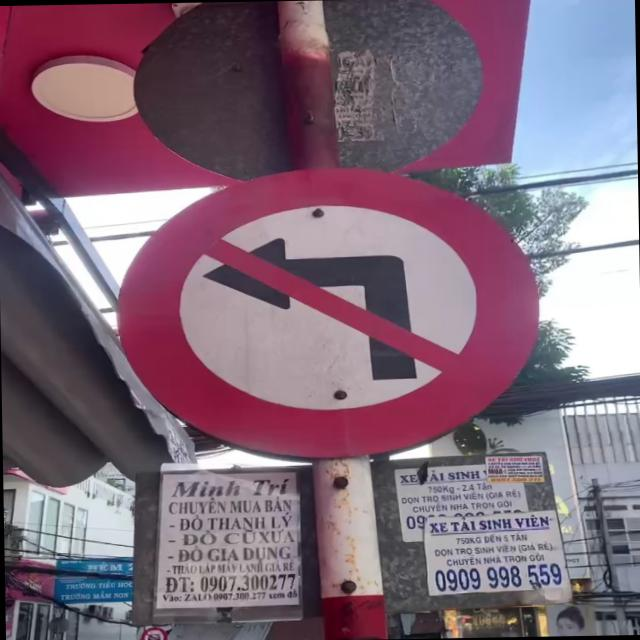Cam_Re_Trai: (112, 162, 542, 462)
